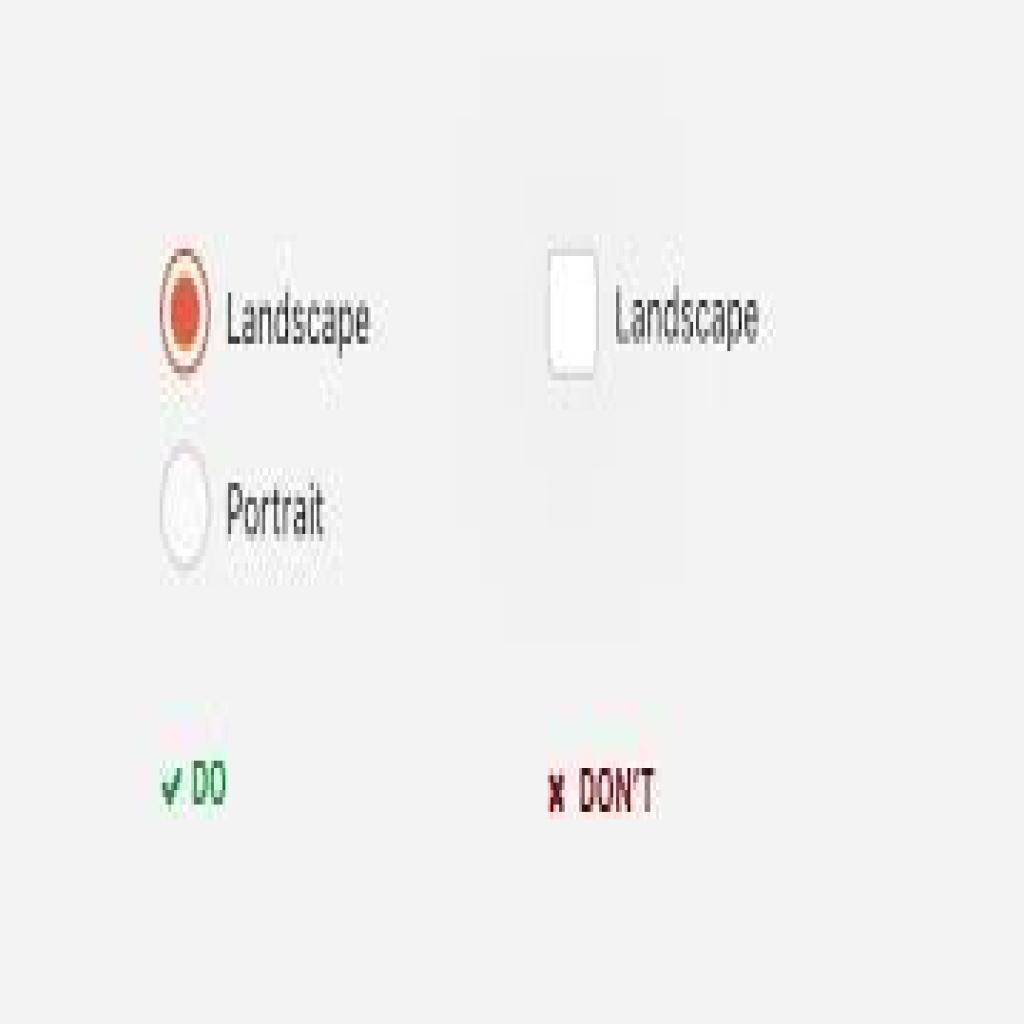checkbox: (547, 253, 597, 381)
radio: (154, 441, 221, 581), (159, 245, 220, 385)
